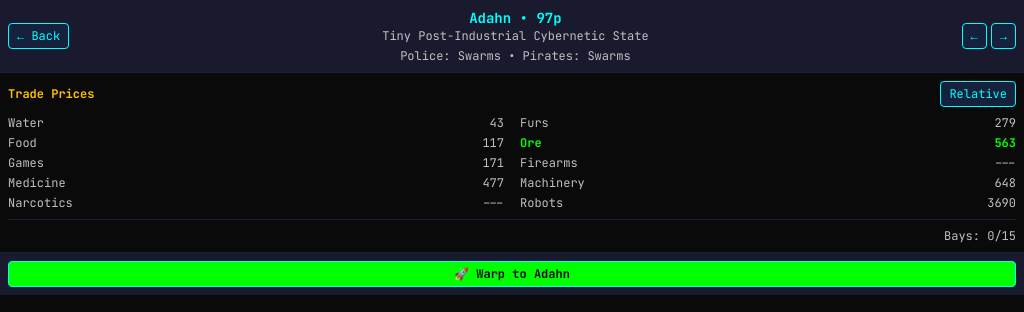
Test: DestinationScreen › System Navigation › should navigate to previous system within range
Click the button with test id "prev-system-button".
click(974, 36)  # box [962, 23, 987, 49]
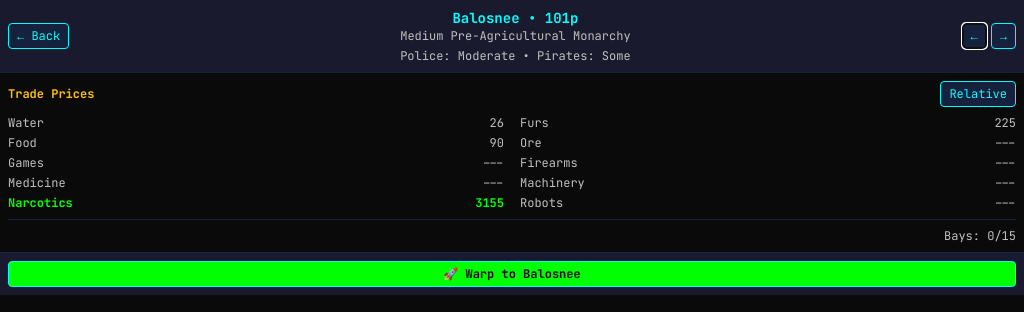
Result: the text with test id "system-name" no longer shows "Adahn" at [452, 9, 578, 27]
